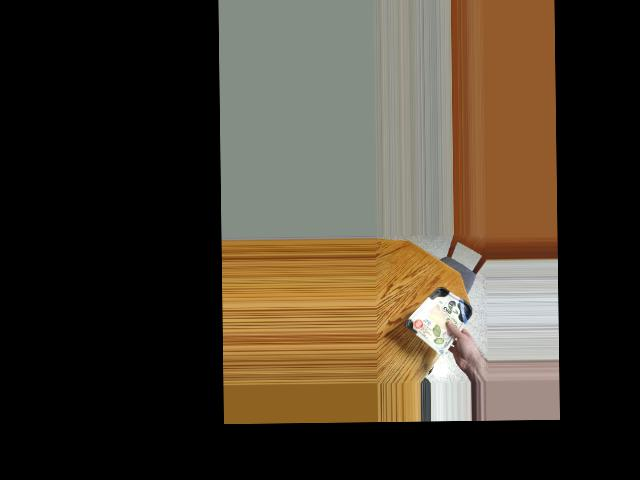cheese: (412, 285, 467, 343)
